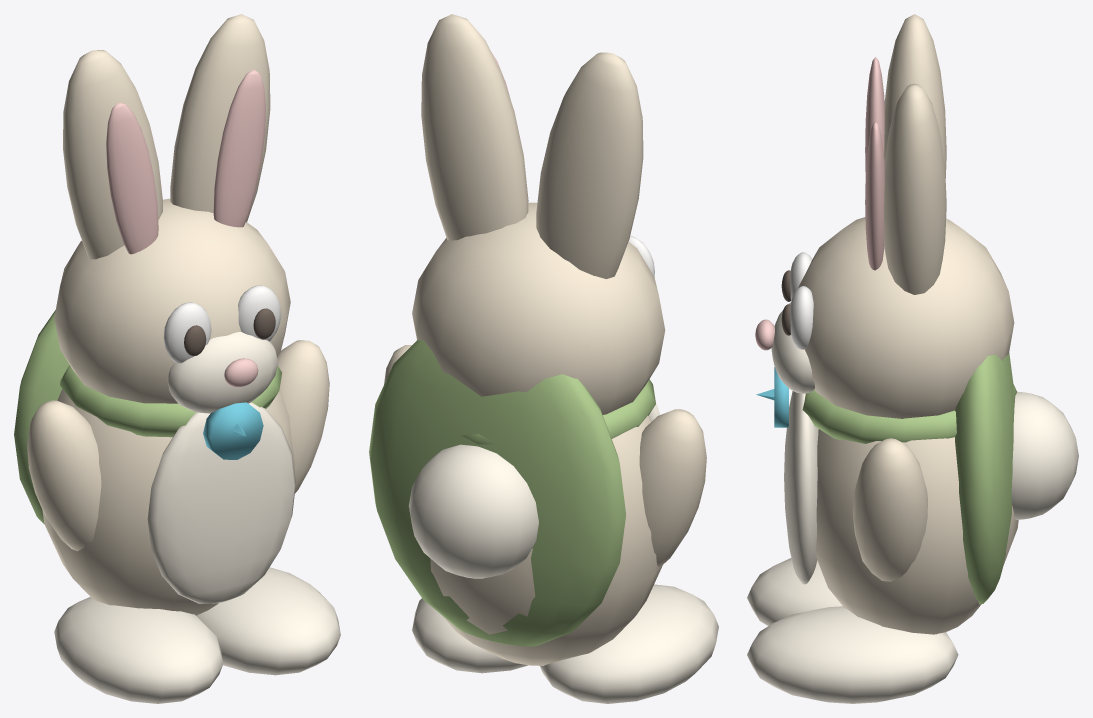
Rendered from rabbit-pawn.glb.
3 renders of one model, left to right at view 1: azimuth 30°, elevation 25°; view 2: azimuth 150°, elevation 25°; view 3: azimuth 270°, elevation 25°, orthographic. The views are drawn at different scales.
Parts seen in each view (by area): view 1: mesh_rabbit_fur, mesh_rabbit_cream, mesh_rabbit_ear, mesh_rabbit_cape, mesh_rabbit_eye_white, mesh_rabbit_player_accent, mesh_rabbit_ink; view 2: mesh_rabbit_fur, mesh_rabbit_cape, mesh_rabbit_cream; view 3: mesh_rabbit_fur, mesh_rabbit_cream, mesh_rabbit_cape, mesh_rabbit_ear, mesh_rabbit_eye_white, mesh_rabbit_player_accent.
Part boxes in pixels (x1,y1,x2,y2): mesh_rabbit_fur: (27,14,329,615); mesh_rabbit_cream: (54,332,340,703); mesh_rabbit_ear: (106,69,265,387); mesh_rabbit_cape: (14,310,282,524); mesh_rabbit_eye_white: (163,285,281,363); mesh_rabbit_player_accent: (203,402,263,459); mesh_rabbit_ink: (184,308,275,356); mesh_rabbit_fur: (384,14,706,665); mesh_rabbit_cape: (369,340,655,646); mesh_rabbit_cream: (408,403,718,703); mesh_rabbit_fur: (798,14,1018,634); mesh_rabbit_cream: (747,302,1078,703); mesh_rabbit_cape: (802,352,1016,604); mesh_rabbit_ear: (755,57,884,350); mesh_rabbit_eye_white: (790,252,813,349); mesh_rabbit_player_accent: (756,367,788,427).
Bounding box in the file's own units: 0.4608 × 0.92 × 0.4514.
